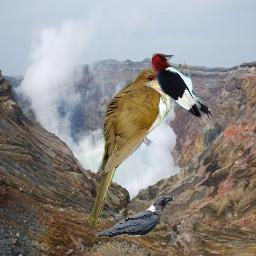Crow: (95, 196, 174, 238)
Cuckoo: (89, 68, 175, 227)
Woodpecker: (152, 53, 215, 120)
